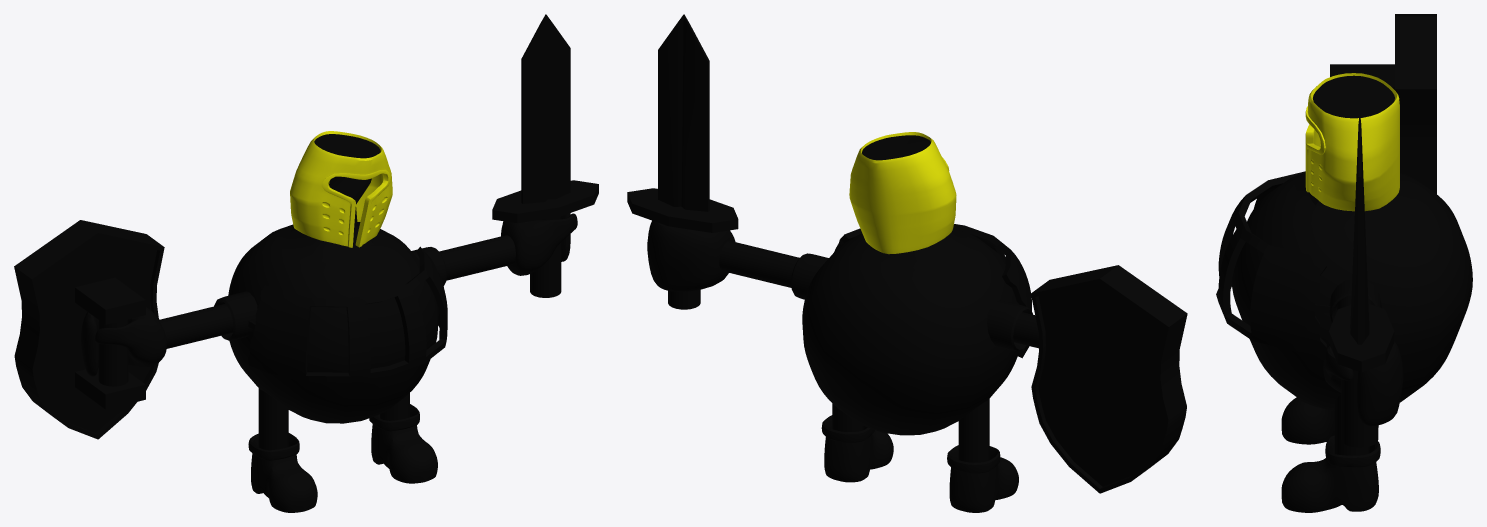
The model's file is onionKnight_mesh.fbx.
3 renders of one model, left to right at view 1: azimuth 30°, elevation 25°; view 2: azimuth 150°, elevation 25°; view 3: azimuth 270°, elevation 25°, orthographic. The views are drawn at different scales.
Visible parts, largest first — view 1: onionKnight; view 2: onionKnight; view 3: onionKnight.
Part boxes in pixels (bbox=[...]): onionKnight: bbox=[14, 14, 598, 512]; onionKnight: bbox=[627, 14, 1187, 512]; onionKnight: bbox=[1216, 14, 1472, 512].
Bounding box in the file's own units: 518 × 363 × 179.
